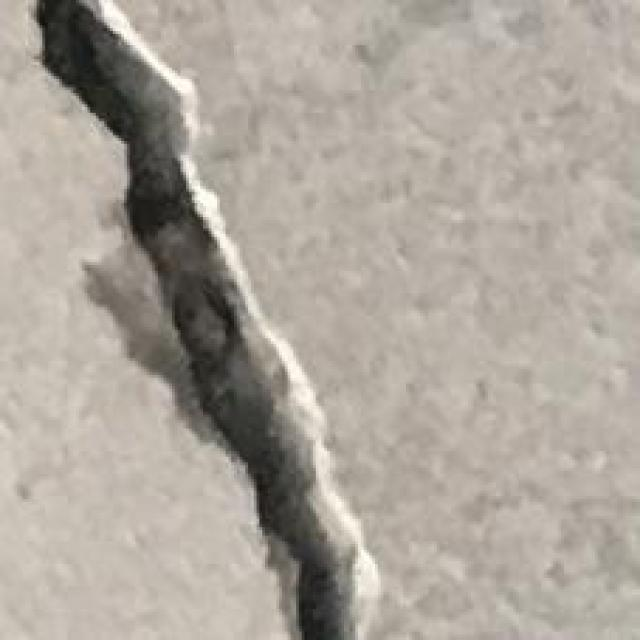Crack: (22, 5, 380, 640)
